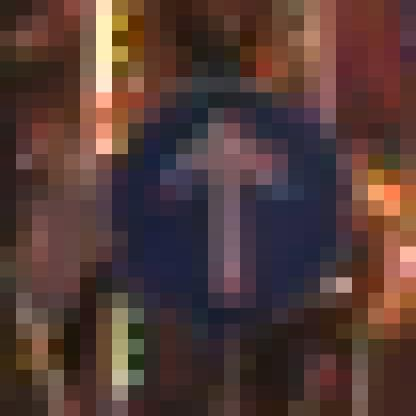AheadOnly: (81, 78, 337, 325)
